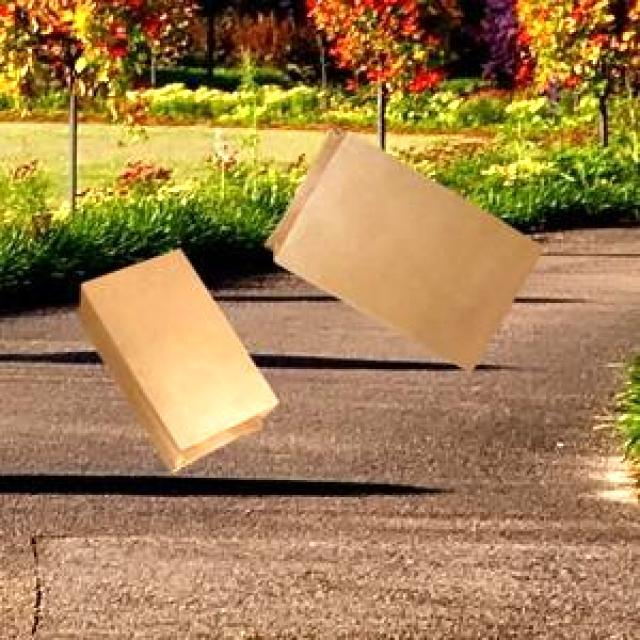Paper_Bag: (261, 125, 539, 368), (78, 246, 274, 468)
